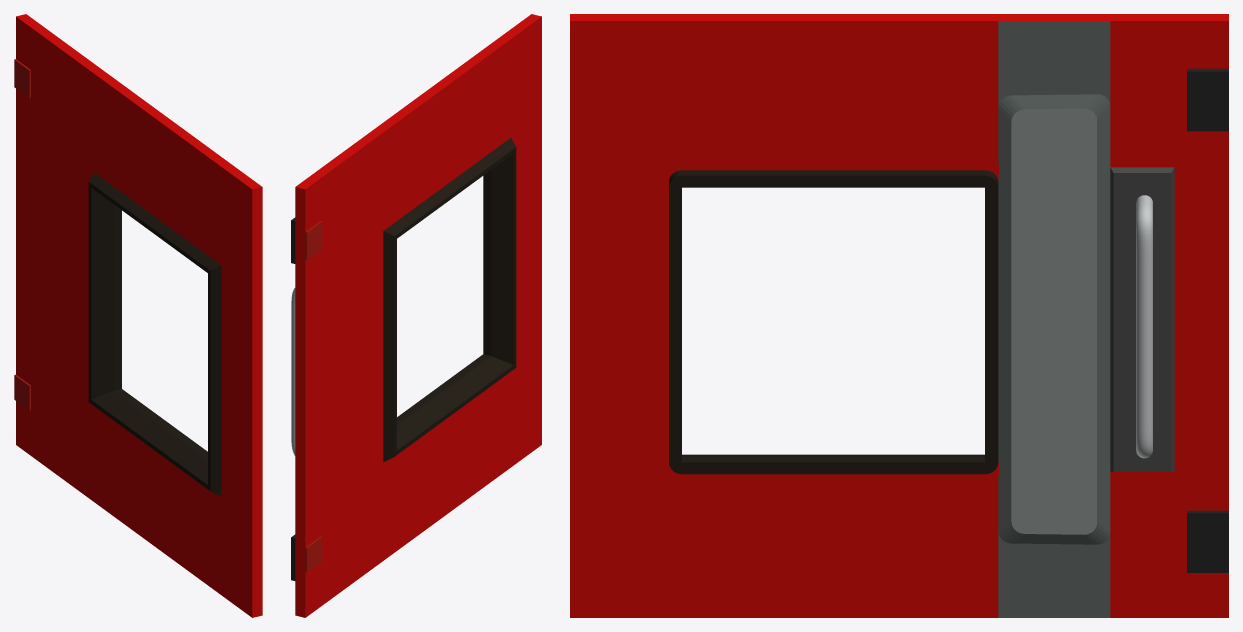
Rendered from CircuitBreakerHeavy_Door.fbx.
3 renders of one model, left to right at view 1: azimuth 30°, elevation 25°; view 2: azimuth 150°, elevation 25°; view 3: azimuth 270°, elevation 25°, orthographic. The views are drawn at different scales.
Parts seen in each view (by area): view 1: HeavyBreaker_Door; view 2: HeavyBreaker_Door; view 3: HeavyBreaker_Door.
Boxes of the visible parts, x1,y1,x2,y2 form: HeavyBreaker_Door: [14, 14, 262, 617]; HeavyBreaker_Door: [291, 14, 541, 617]; HeavyBreaker_Door: [570, 14, 1228, 617].
Bounding box in the file's own units: 100 × 100 × 12.65.
